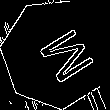M_SW: (23, 21, 90, 86)
